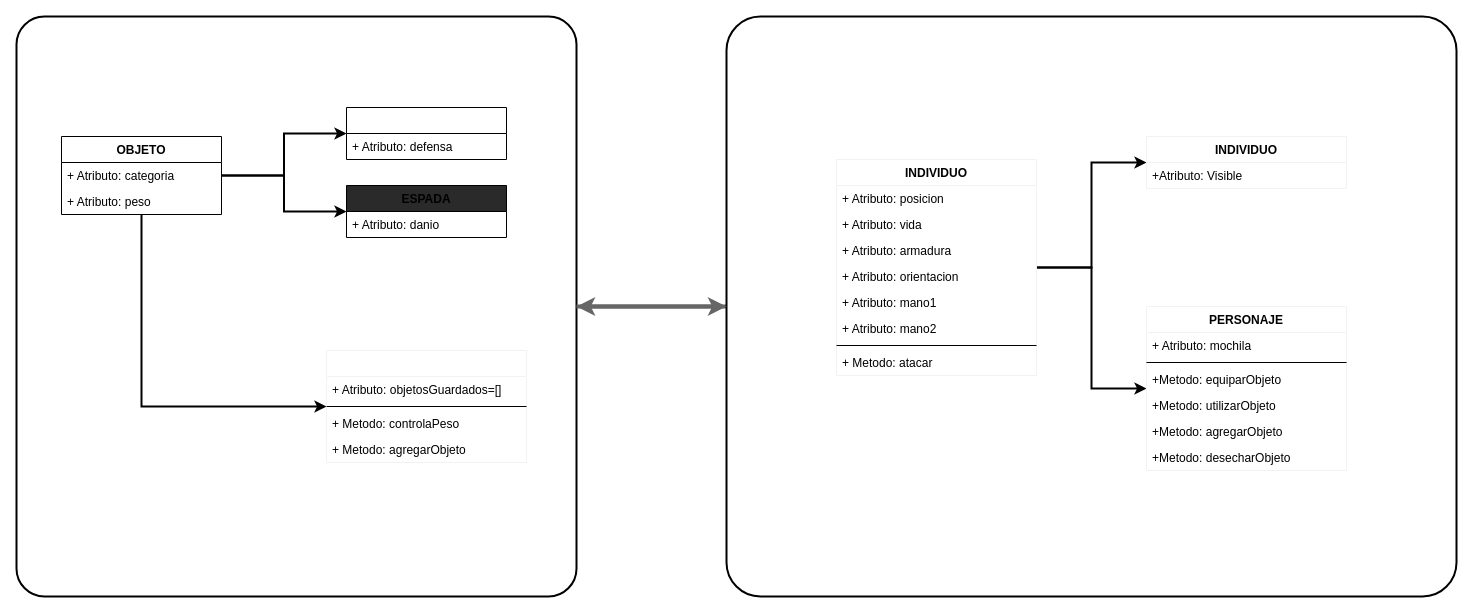
This 1473x613 diagram has some shape labels left out. The shapes that lost their labels are listed below. From the top down, each one's box as (x1, y1, x2, y2) in pixels, then its label:
(346, 106, 506, 160): ESCUDO
(326, 350, 526, 462): MOCHILA
